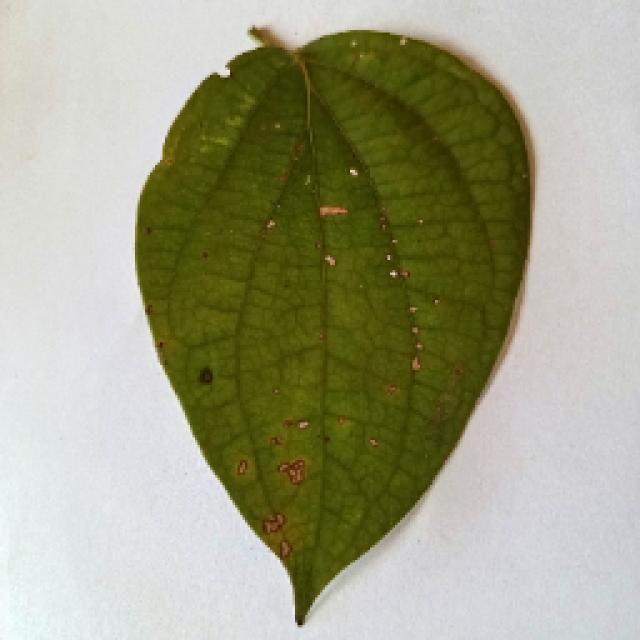pollu-disease: (135, 25, 527, 625)
